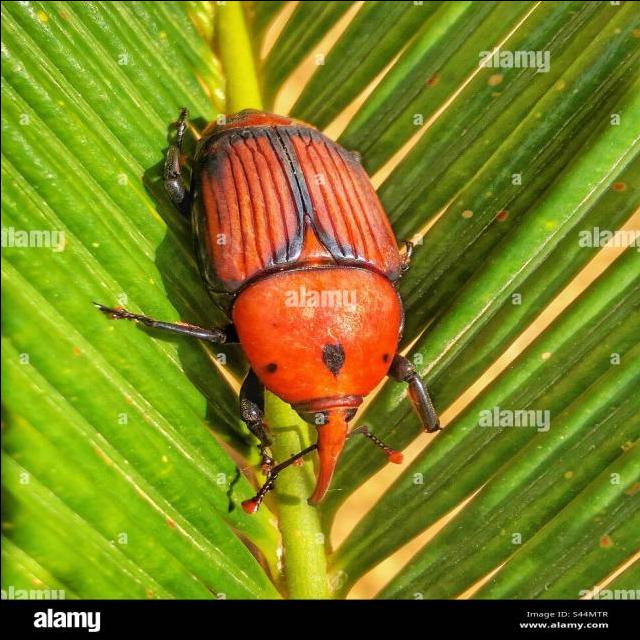Red-palm-weevil: (177, 104, 409, 510)
